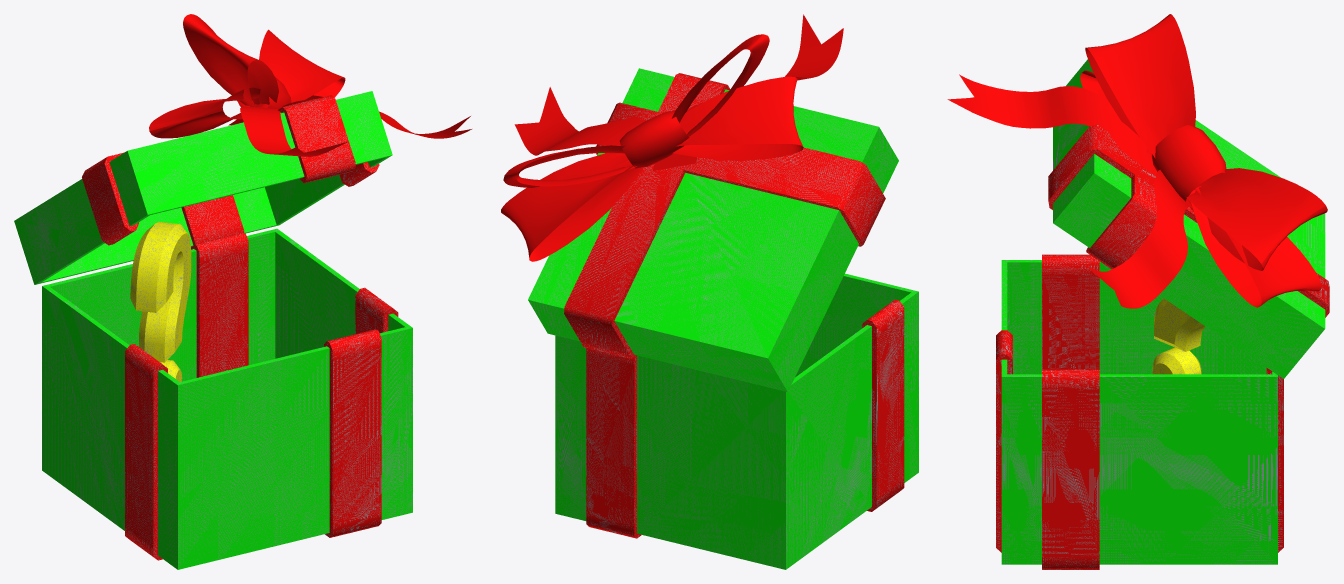
3 renders of one model, left to right at view 1: azimuth 30°, elevation 25°; view 2: azimuth 150°, elevation 25°; view 3: azimuth 270°, elevation 25°, orthographic. The views are drawn at different scales.
Parts seen in each view (by area): view 1: group_3 (×5), group_0 (×5), Component_6 (×3), instance_7, Component_5 (×2); view 2: group_3 (×4), group_0 (×5), Component_6 (×4), Component_5 (×2), group_2; view 3: group_3 (×5), group_0 (×5), Component_6 (×3), Component_5 (×2), group_2, instance_7.
Boxes of the visible parts, x1,y1,x2,y2 form: group_3 (×5): (42,228,412,569); group_0 (×5): (14,91,392,284); Component_6 (×3): (149,14,345,138); instance_7: (130,222,191,381); Component_5 (×2): (228,99,471,156); group_3 (×4): (555,273,918,569); group_0 (×5): (528,68,898,391); Component_6 (×4): (501,34,803,261); Component_5 (×2): (514,14,843,170); group_2: (619,110,689,168); group_3 (×5): (996,254,1283,569); group_0 (×5): (1048,59,1329,378); Component_6 (×3): (1085,14,1327,307); Component_5 (×2): (947,74,1192,308); group_2: (1151,125,1226,201); instance_7: (1152,298,1205,374).
Bounding box in the file's own units: 4.64 × 4.15 × 5.8.
